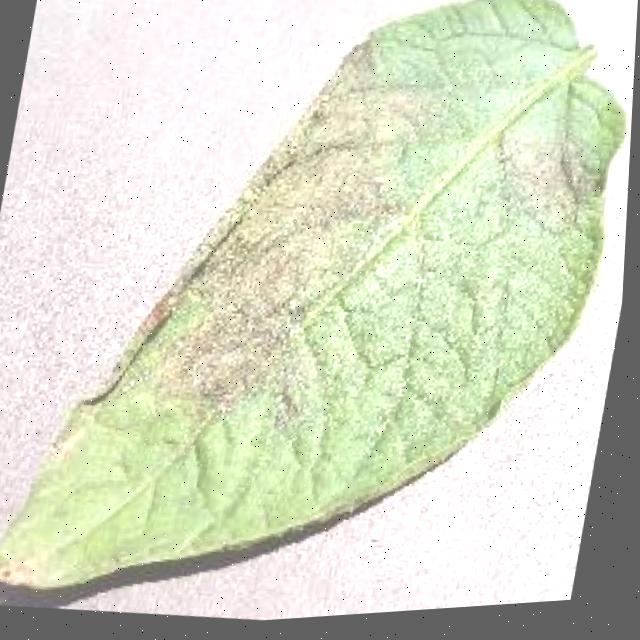Late_blight: (142, 10, 443, 475), (450, 106, 632, 250)
